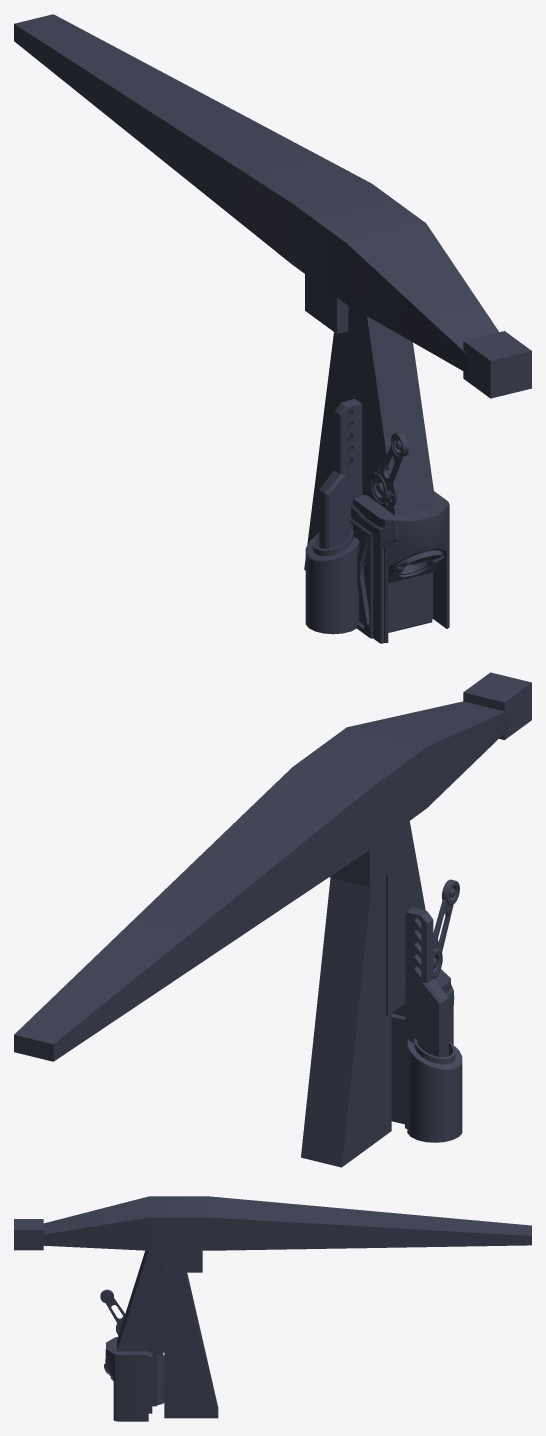
The model's file is crane_01.FBX.
3 renders of one model, top to bottom at view 1: azimuth 30°, elevation 25°; view 2: azimuth 150°, elevation 25°; view 3: azimuth 270°, elevation 25°, orthographic. The views are drawn at different scales.
Parts seen in each view (by area): view 1: Box008, Box007, Cylinder003, Box001, Cylinder001, Box009, Box002, Cylinder019, Box010, Box011; view 2: Box008, Box010, Box001, Cylinder001, Box007, Box009, Box011, Box002, Box004; view 3: Box008, Box010, Box007, Cylinder003, Box009, Box011, Cylinder001, Box002.
Boxes of the visible parts, x1,y1,x2,y2 form: Box008: (14,14,498,373); Box007: (346,305,435,515); Cylinder003: (353,491,449,642); Box001: (319,399,362,548); Cylinder001: (305,535,359,634); Box009: (463,331,531,398); Box002: (349,504,398,643); Cylinder019: (388,550,444,632); Box010: (304,332,345,570); Box011: (305,274,348,333); Box008: (14,701,509,1061); Box010: (301,875,391,1167); Box001: (405,907,448,1128); Cylinder001: (407,1040,462,1142); Box007: (386,821,437,1015); Box009: (463,672,531,739); Box011: (329,827,401,886); Box002: (391,984,454,1124); Box004: (433,899,453,952); Box008: (43,1196,531,1250); Box010: (164,1269,218,1418); Box007: (117,1250,167,1352); Cylinder003: (105,1337,148,1421); Box009: (14,1219,43,1250); Box011: (168,1250,202,1272); Cylinder001: (156,1355,164,1405); Box002: (148,1352,152,1413).
Size of the model in its own units: 209 by 662 by 1507.
